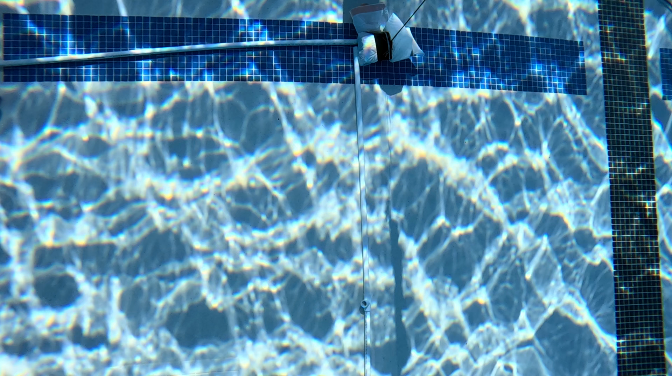sandbag: (354, 13, 430, 64)
